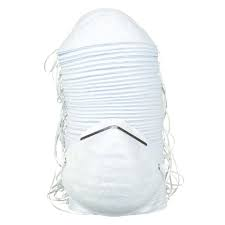mask: (69, 124, 160, 210)
